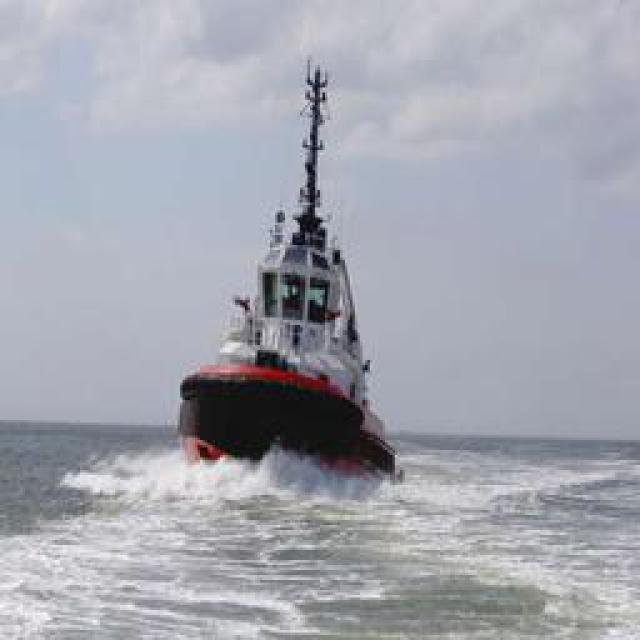Ship: (172, 56, 392, 489)
